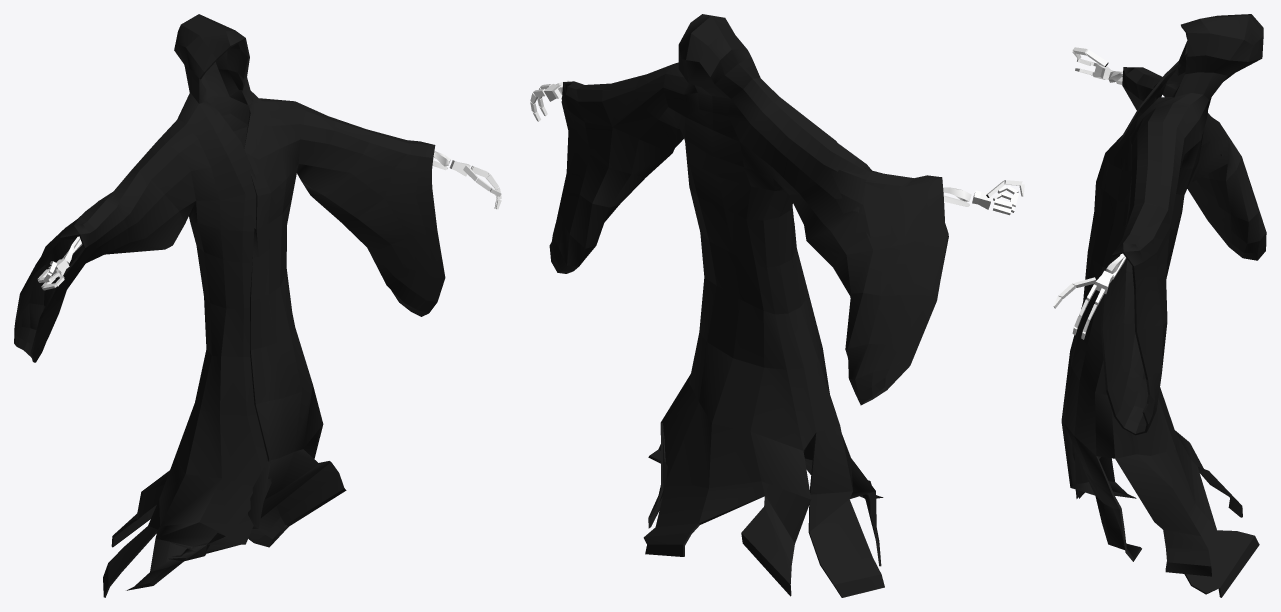
The model's file is ReaperParticle.fbx.
3 views of the same model, side by side, from view 1: azimuth 30°, elevation 25°; view 2: azimuth 150°, elevation 25°; view 3: azimuth 270°, elevation 25° (orthographic). The views are drawn at different scales.
Visible parts, largest first — view 1: ReaperParticle; view 2: ReaperParticle; view 3: ReaperParticle.
Part boxes in pixels (x1,y1,x2,y2): ReaperParticle: (14,14,501,597); ReaperParticle: (530,14,1024,597); ReaperParticle: (1053,14,1266,597).
Bounding box in the file's own units: 38.65 × 41.69 × 14.36.
